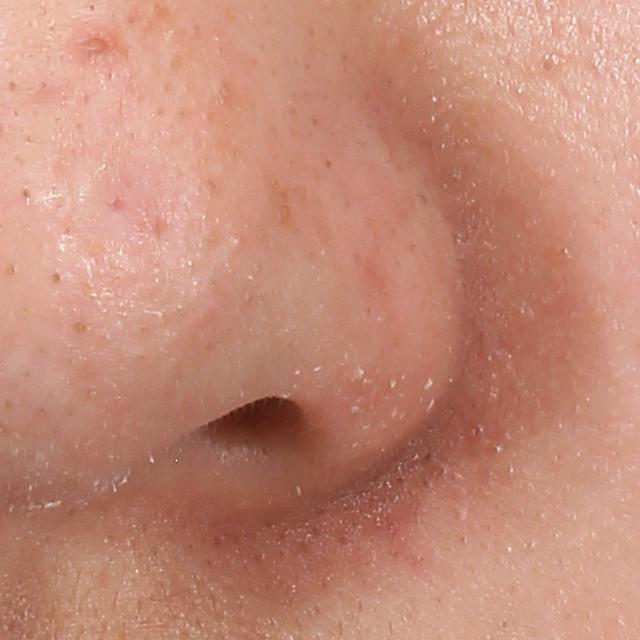comedo: (225, 234, 245, 256), (45, 268, 65, 288), (71, 318, 88, 336)
